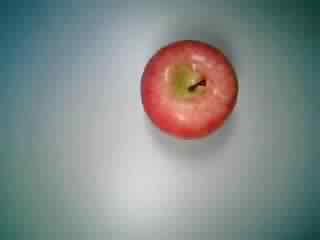apple: (136, 39, 242, 138)
